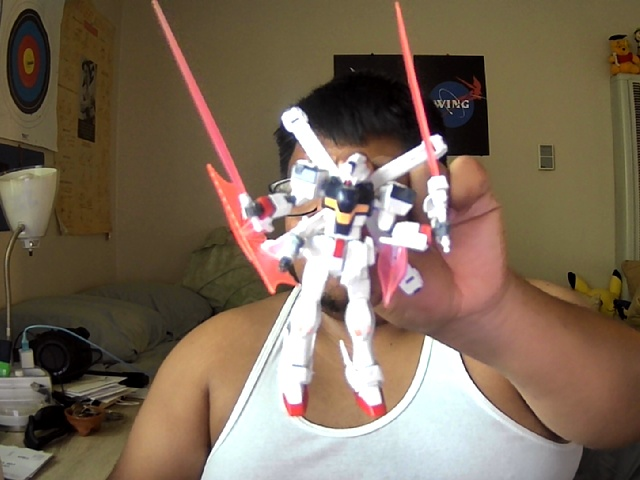Crossbones: (151, 2, 453, 421)
